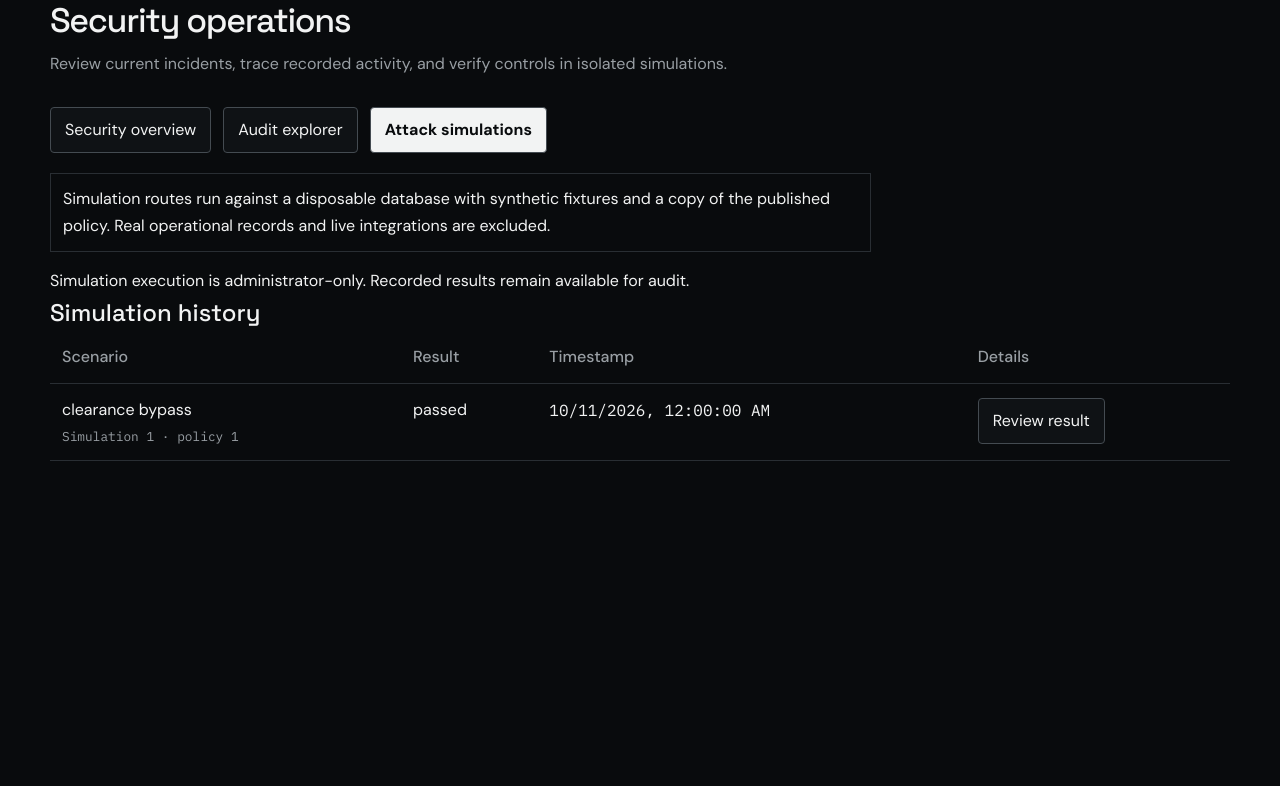
auditors can review results without execution controls
What coordinates should you click on to do the following:
click the button with aria-label "Review simulation 1"
I would click on:
 (1041, 421)
Its box is [978, 398, 1105, 444].
(page scrolled)
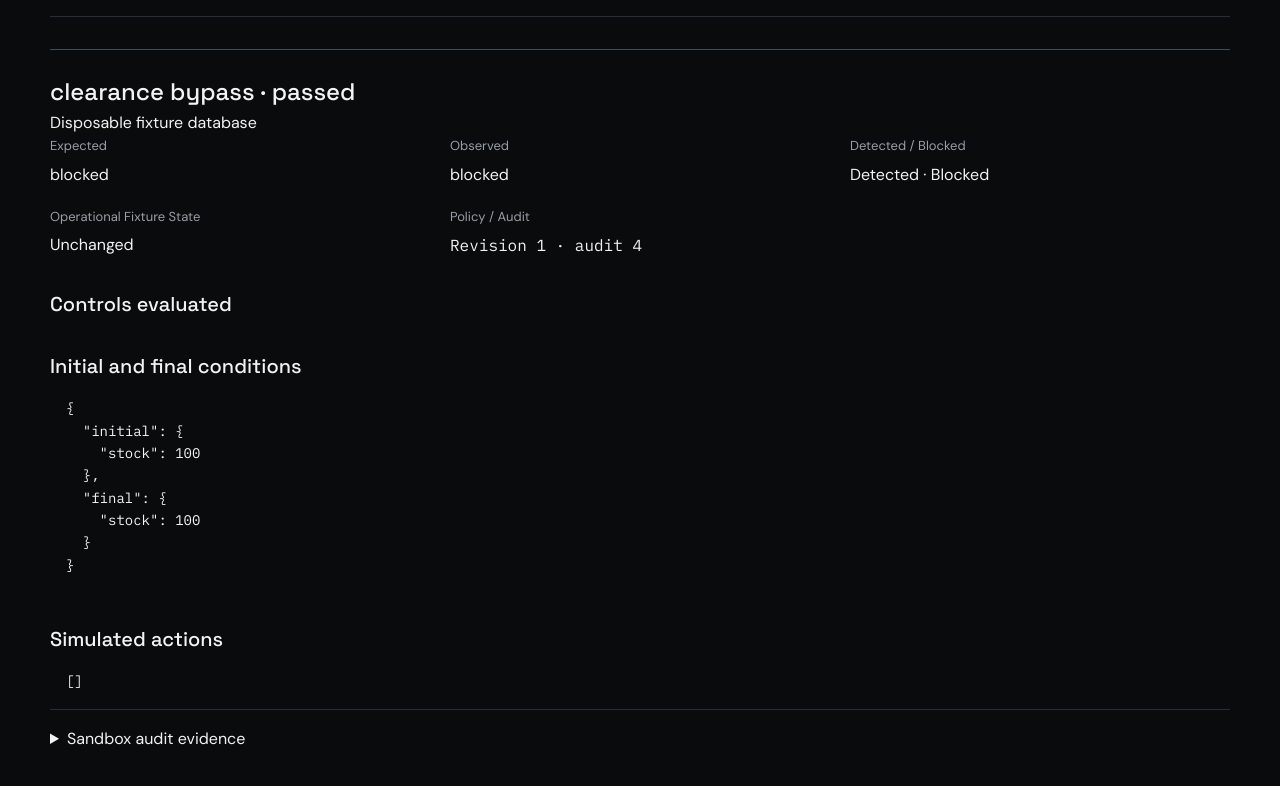
Check: the element named "Simulation result" shows "blocked", box [50, 164, 109, 185]
